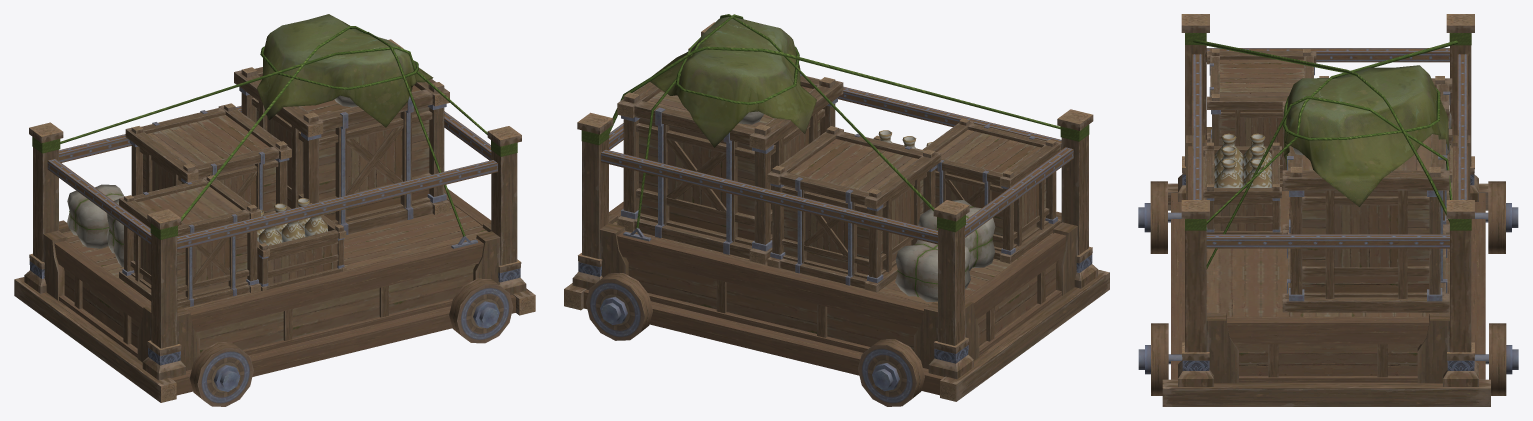
File: Homeworld_Exterior_Xm_Thing_Prop_Matouwujian_01_Lod0.fbx
The picture shows the model from 3 angles, left to right: view 1: azimuth 30°, elevation 25°; view 2: azimuth 150°, elevation 25°; view 3: azimuth 270°, elevation 25°; orthographic projection. The views are drawn at different scales.
Parts seen in each view (by area): view 1: Area_Xm_Prop_XKC_Matouwujian_06_Lod0; view 2: Area_Xm_Prop_XKC_Matouwujian_06_Lod0; view 3: Area_Xm_Prop_XKC_Matouwujian_06_Lod0.
Boxes of the visible parts, <box> form: Area_Xm_Prop_XKC_Matouwujian_06_Lod0: <box>14,14,535,406</box>; Area_Xm_Prop_XKC_Matouwujian_06_Lod0: <box>564,14,1109,406</box>; Area_Xm_Prop_XKC_Matouwujian_06_Lod0: <box>1138,14,1518,406</box>.
Bounding box in the file's own units: 6.83 × 4.4 × 5.35.
